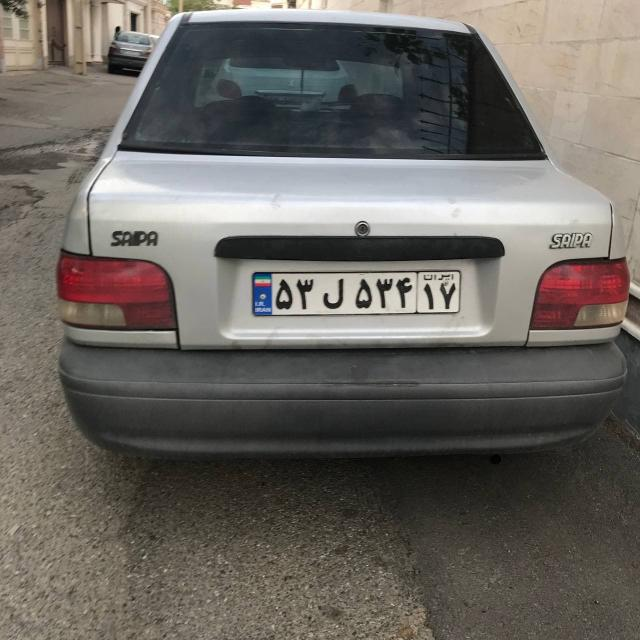Plates: (253, 271, 459, 314)
